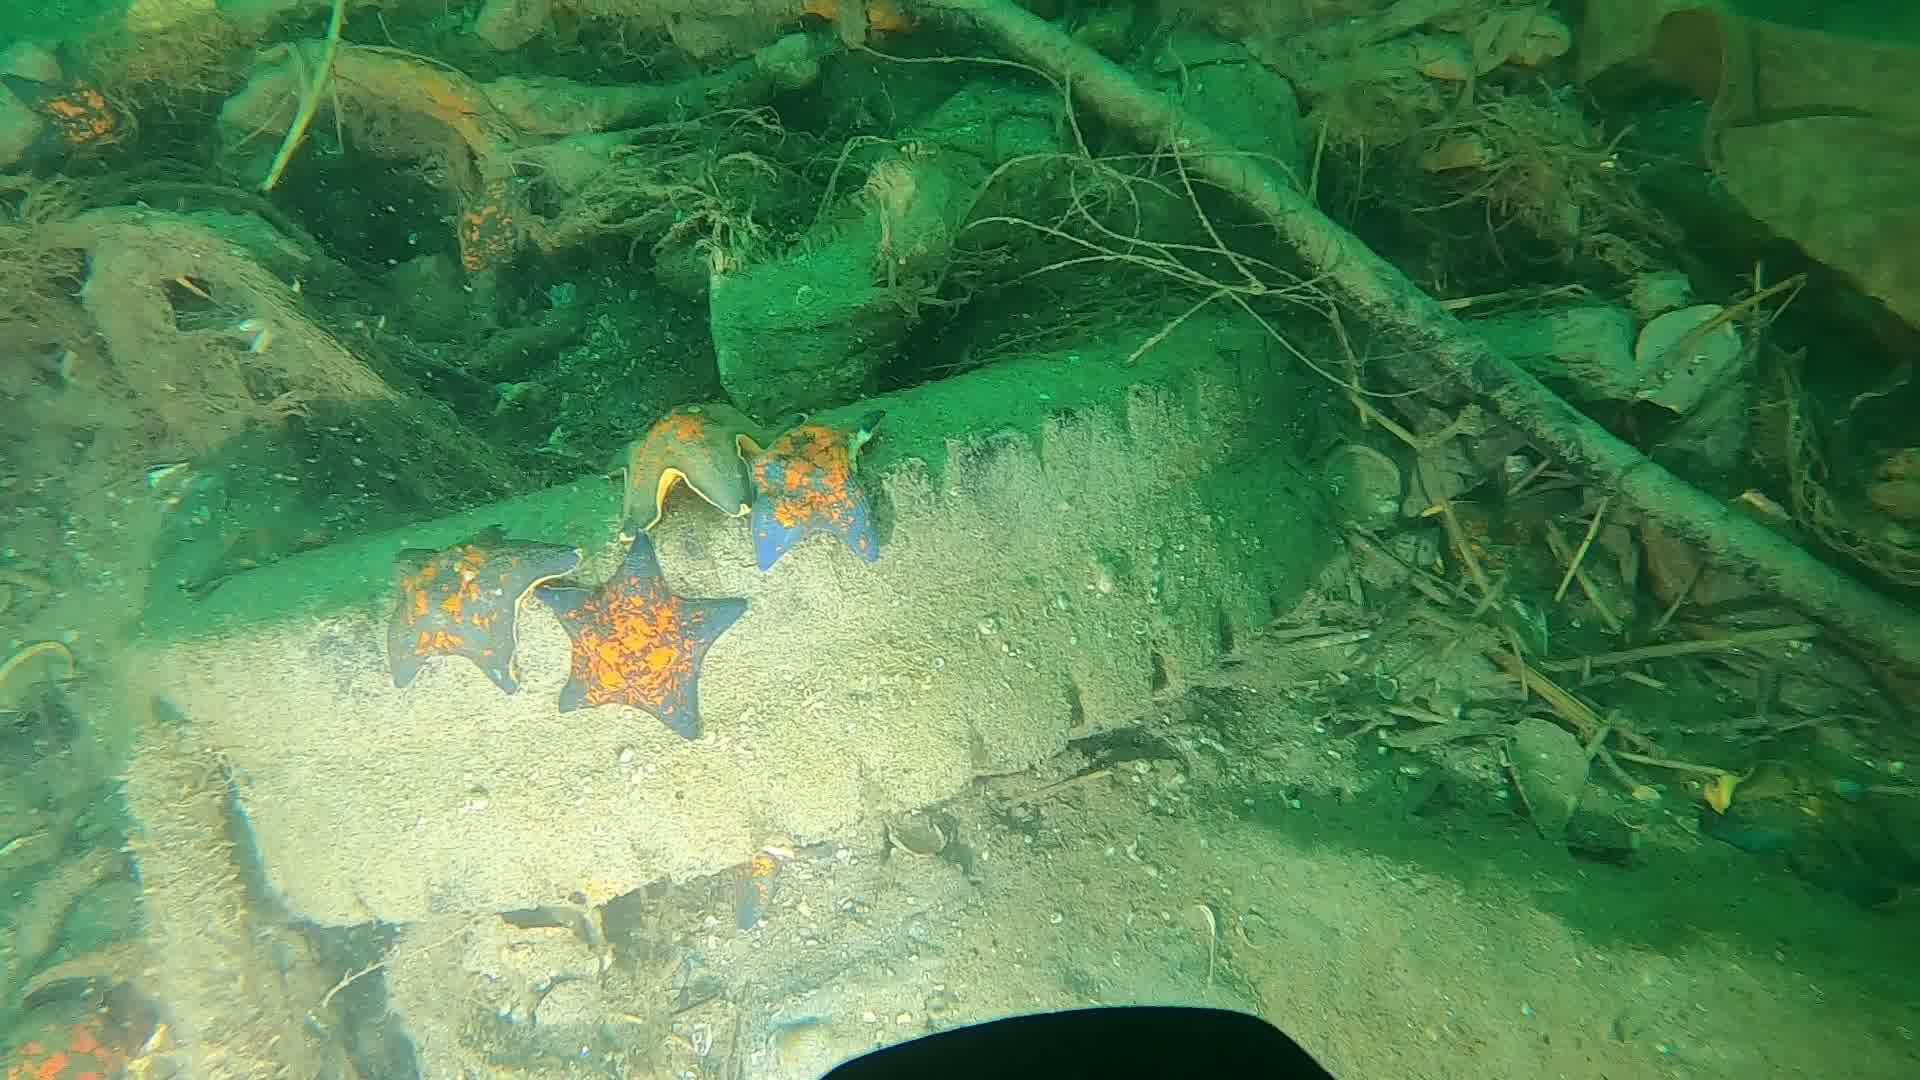fish net: (1774, 347, 1920, 585)
